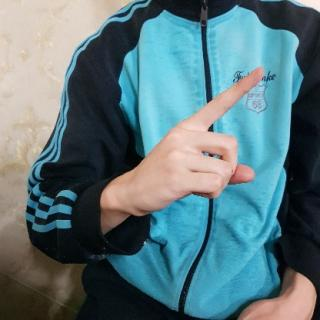RAA: (124, 62, 271, 228)
